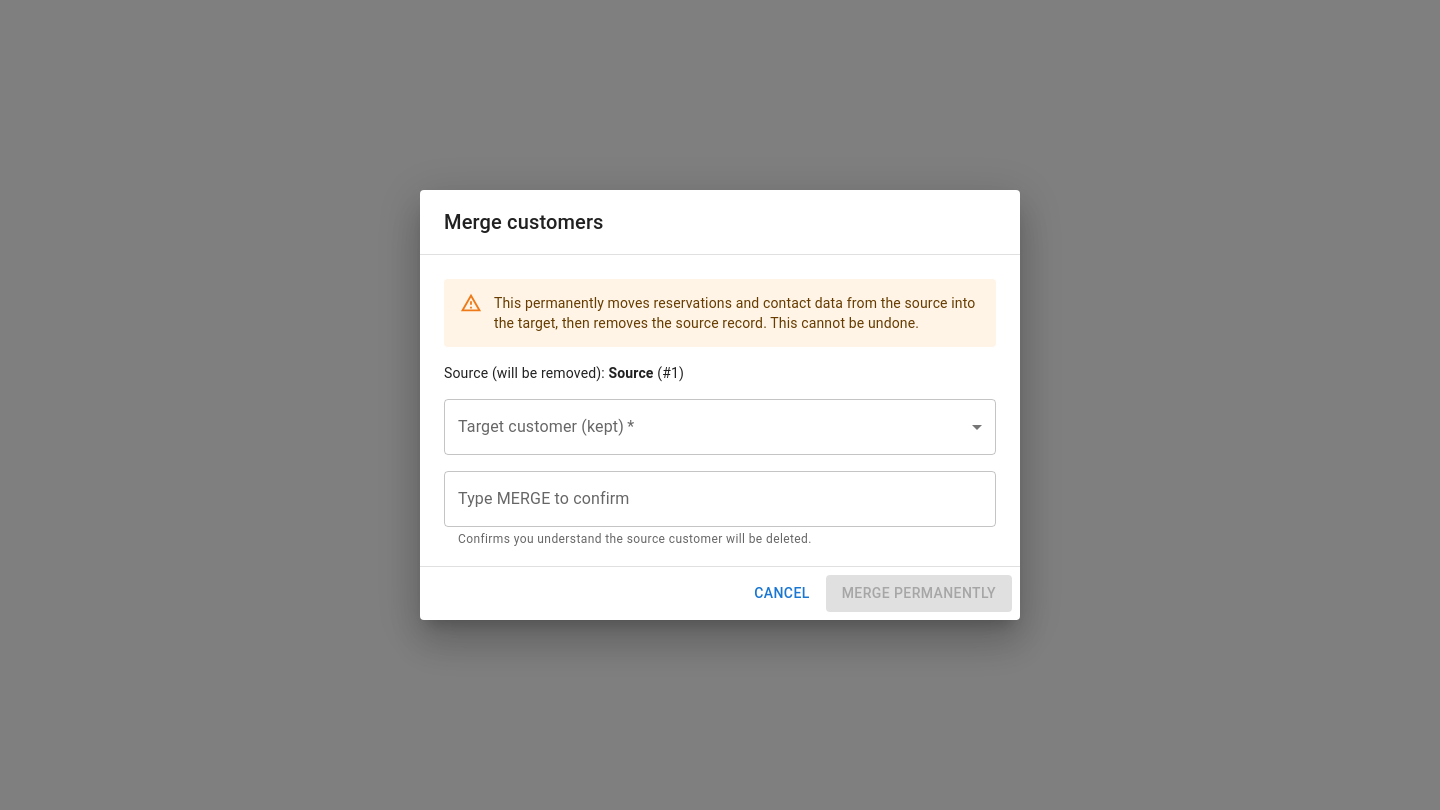
Test: Customer detail and merge › requires MERGE confirmation before merging
This screenshot has width=1440, height=810.
Check: the button "Merge permanently" is disabled, box [826,575,1012,612]
Click the dropdown named "target customer". click: click(720, 427)
box: [444,399,996,455]
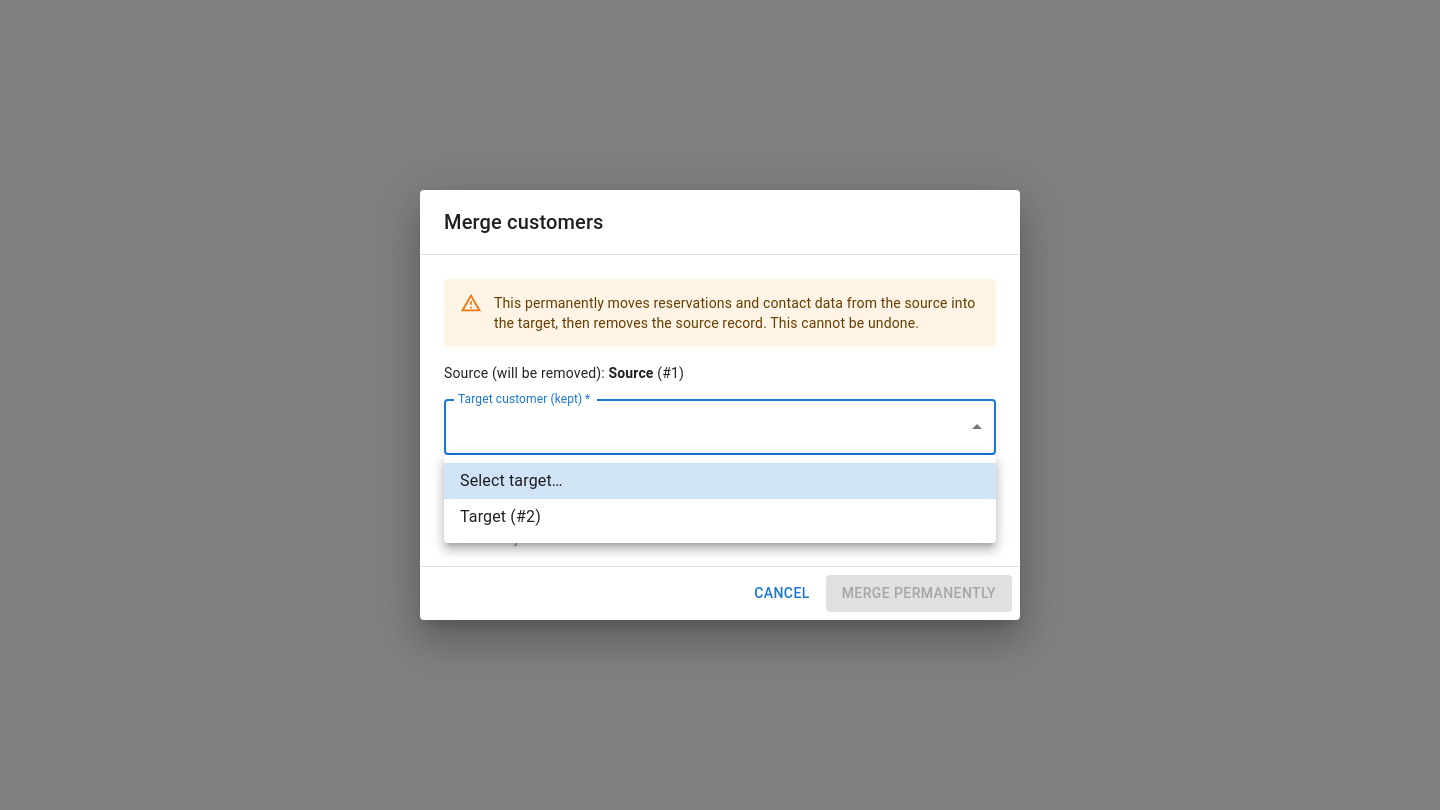
Click the option "Target (#2)". click: click(500, 516)
box: [460,507,541,526]
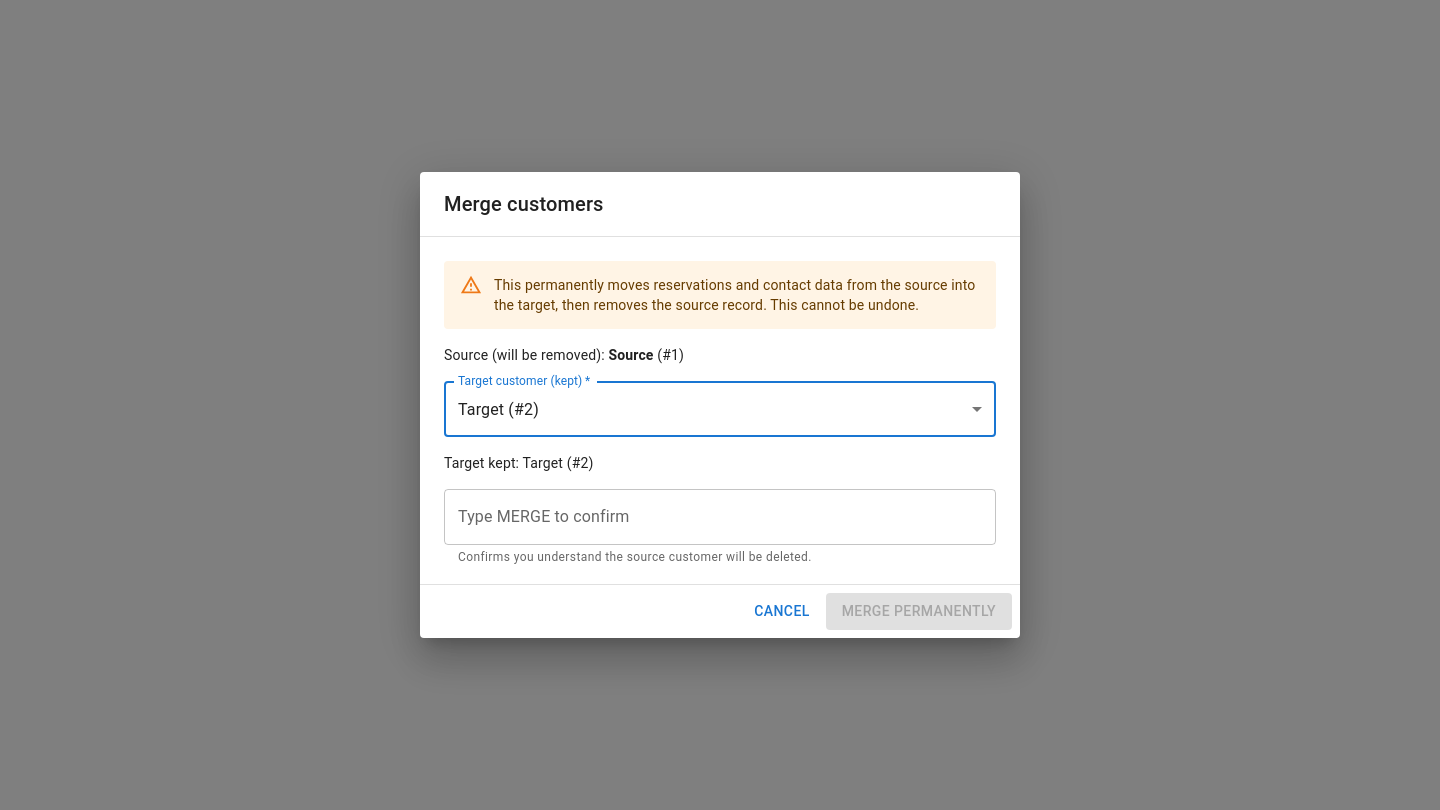
Type "MERGE" into the field labelled "Type MERGE to confirm". click: (720, 517)
box: [444,489,996,545]
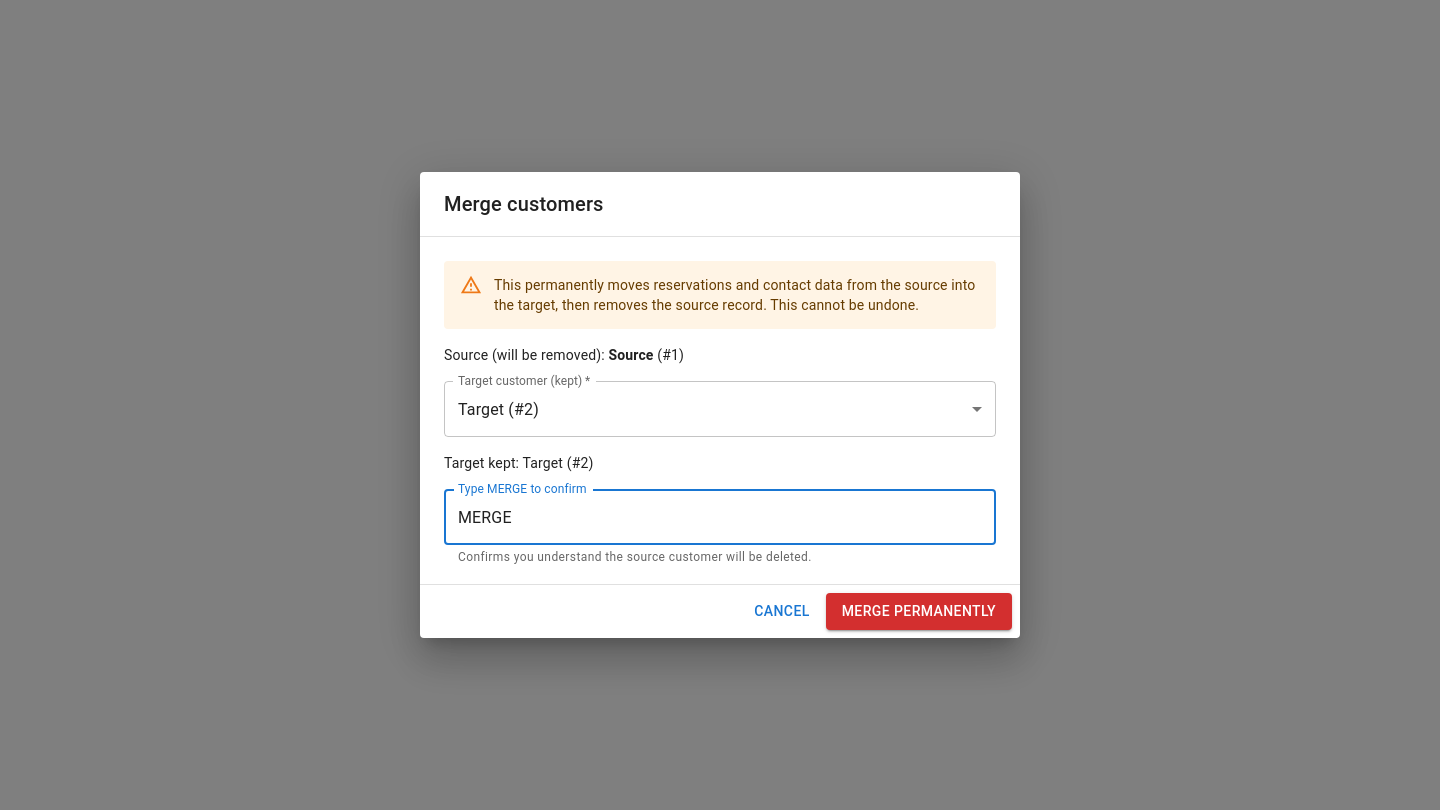
Check: the button "Merge permanently" is enabled, box [826,593,1012,630]
